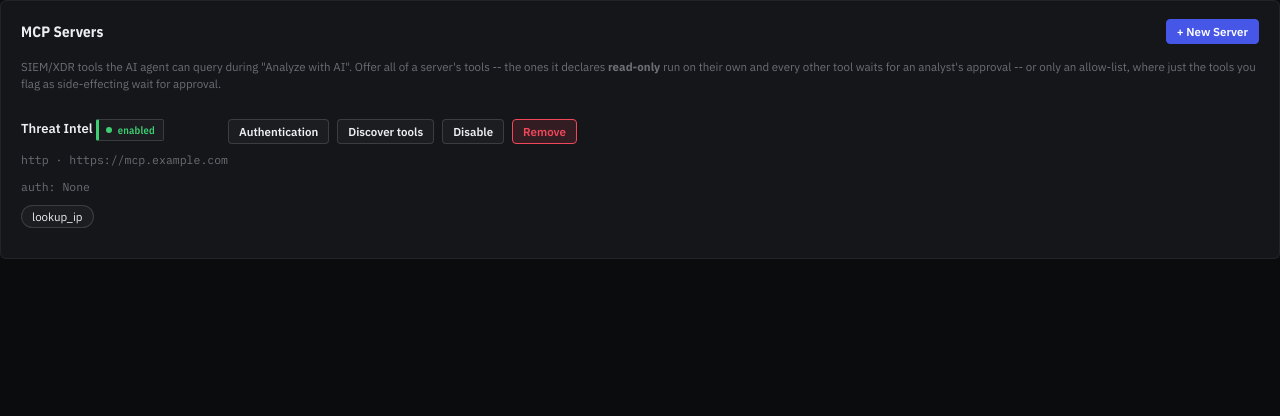
Test: MCPServersPanel › closing the discover panel hides it again
What coordinates should you click on to do the following:
click the button "Discover tools"
I would click on:
 (386, 131)
Its box is top-left (337, 118), bottom-right (434, 144).
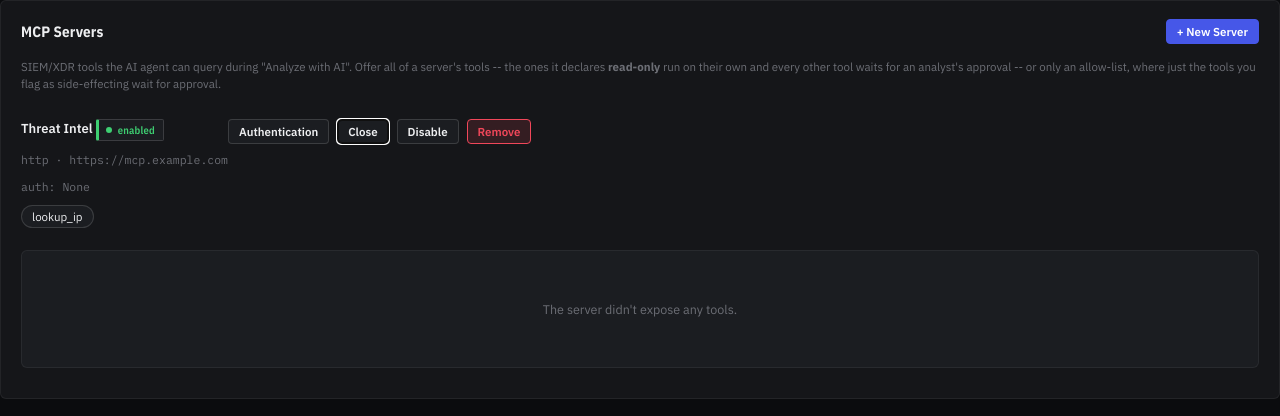
Now the text "The server didn't expose any tools." is shown, box top-left (543, 301), bottom-right (737, 317)
What coordinates should you click on to do the following:
click the button "Close"
I would click on:
 (363, 131)
Its box is top-left (337, 118), bottom-right (389, 144).
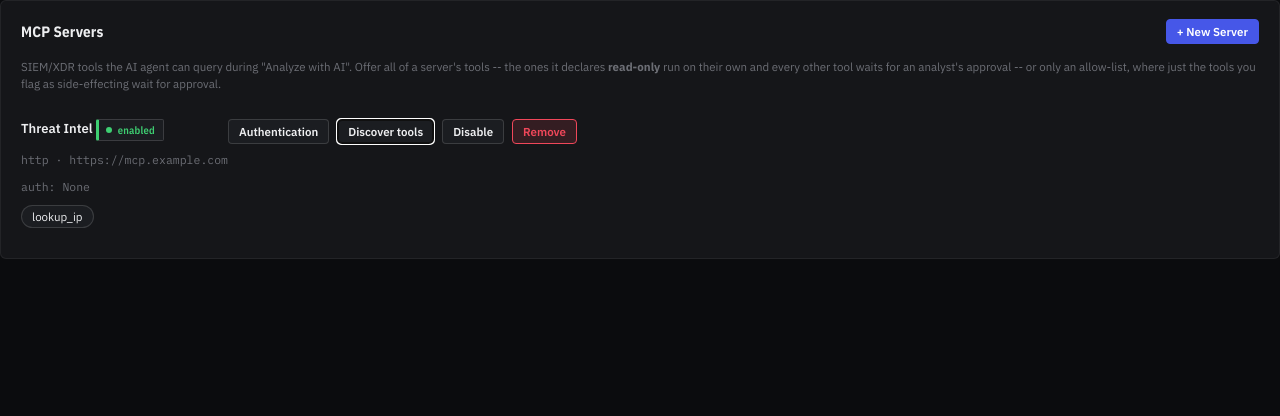
Now the text "The server didn't expose any tools." is gone
